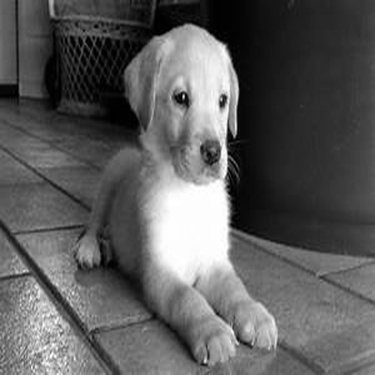dog: (55, 15, 288, 369)
